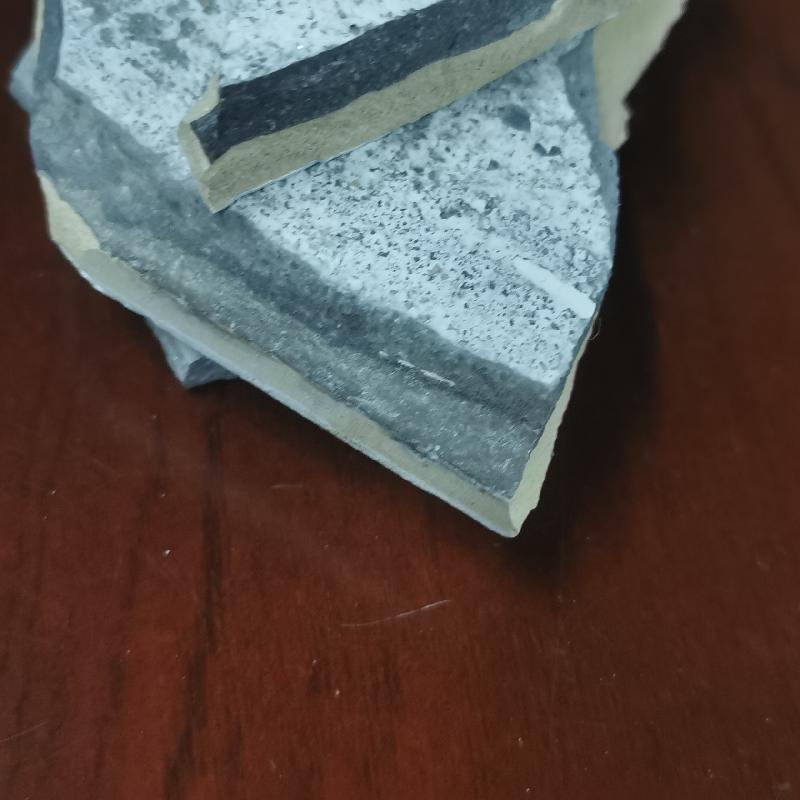tile: (9, 3, 693, 540)
